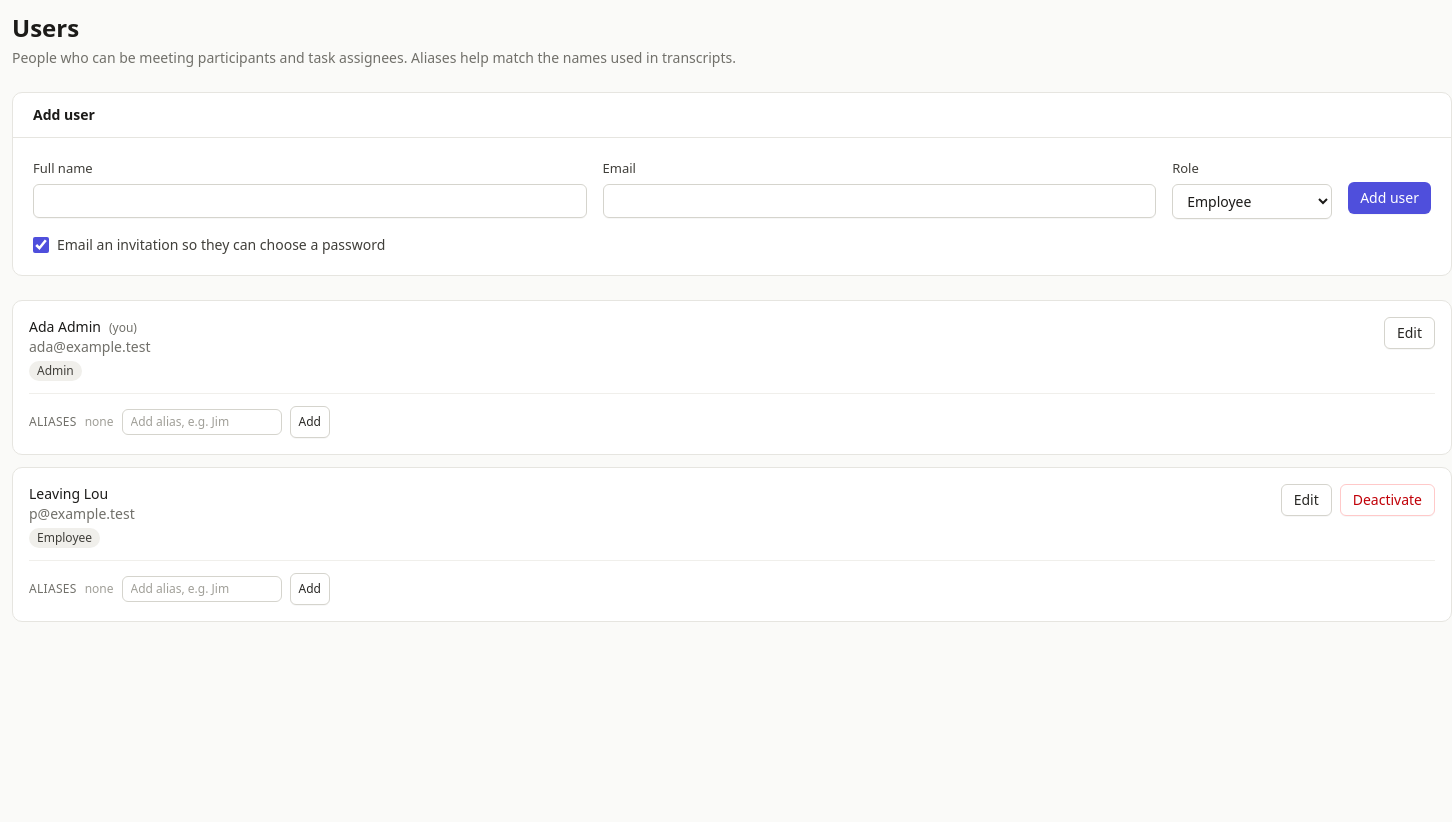
Users page — invitations › deactivating warns that sessions end and history is kept
Expected: the text "Ada Admin" is shown, [29,317,101,336]
Click the button "Deactivate" at x=1387, y=500, box [1340,484,1435,516]
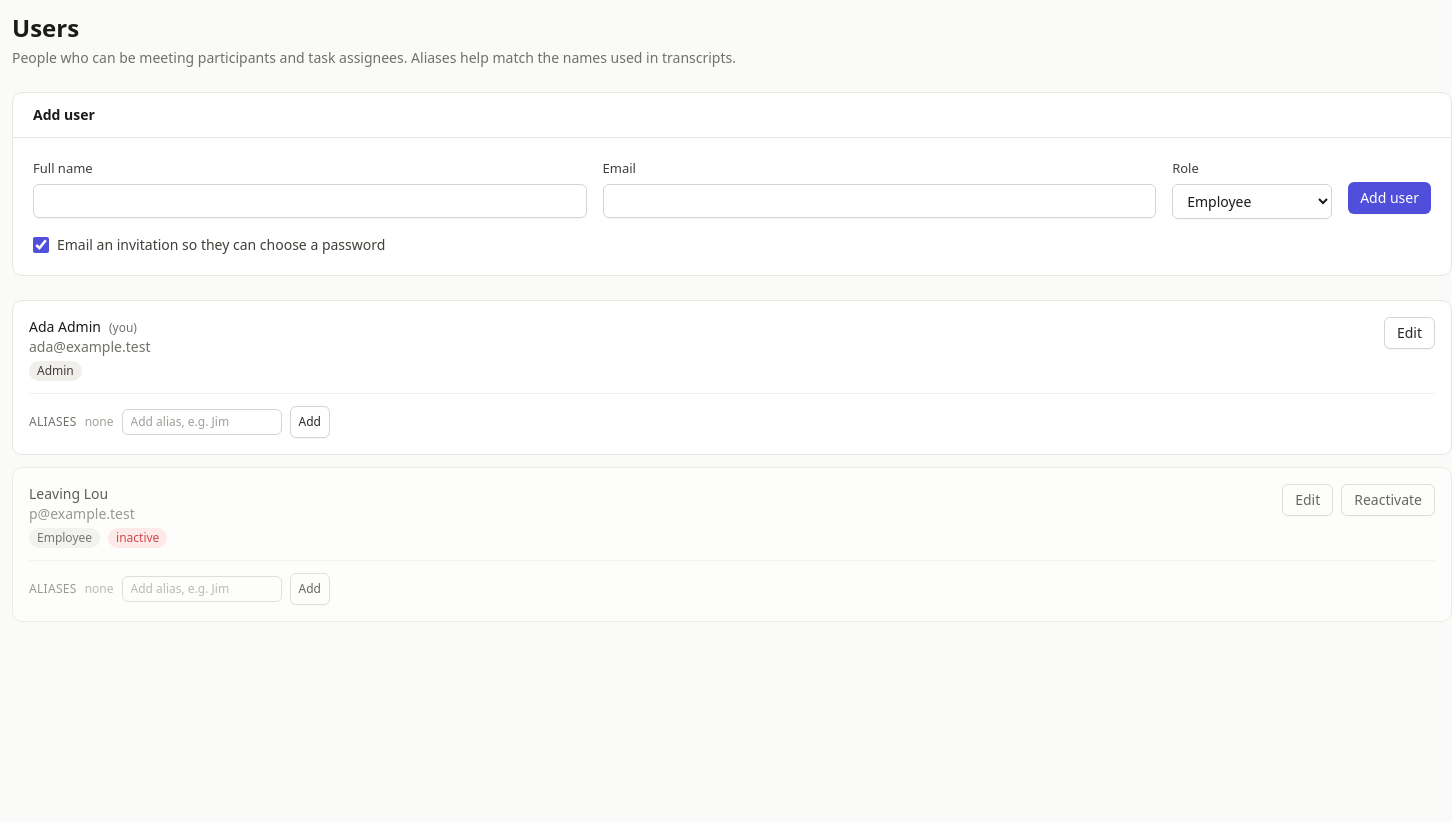
Expected: the text "inactive" is shown, [108,528,167,548]
